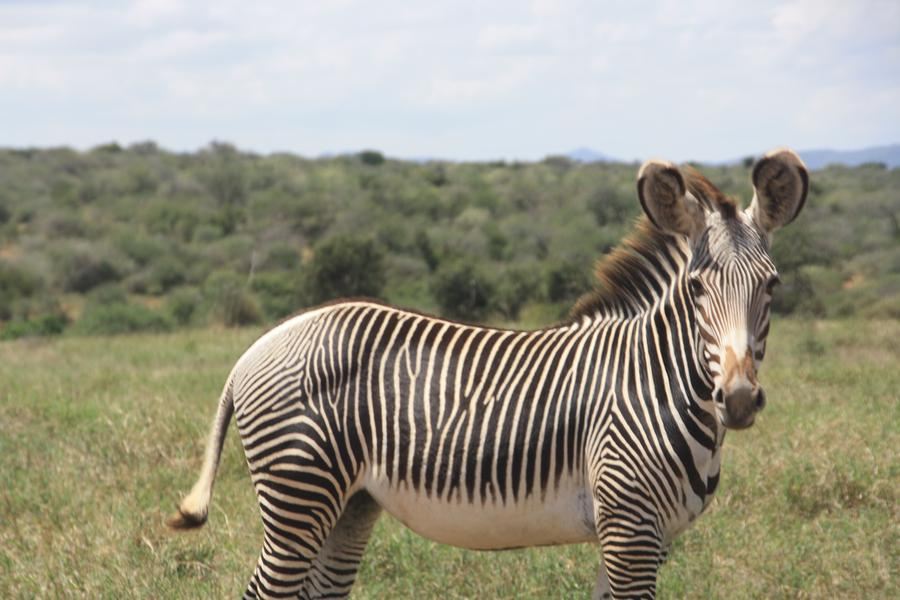zebra_grevys: (211, 267, 682, 533)
